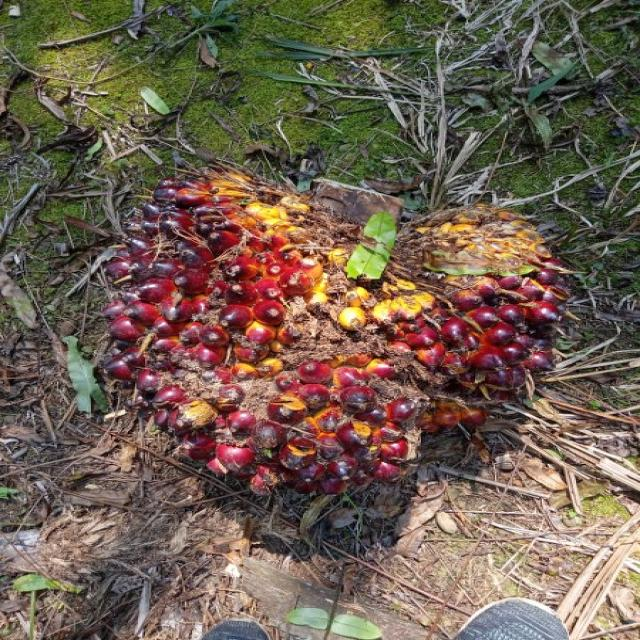fraksi 1: (58, 84, 598, 570)
